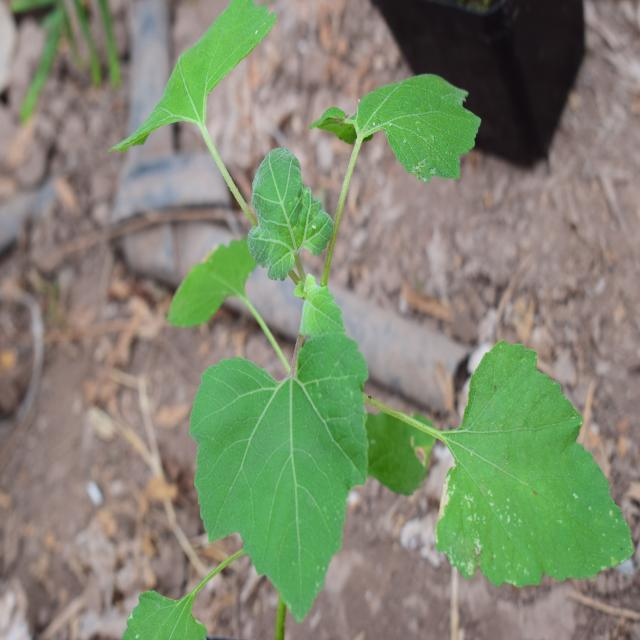cocklebur: (121, 13, 598, 572)
